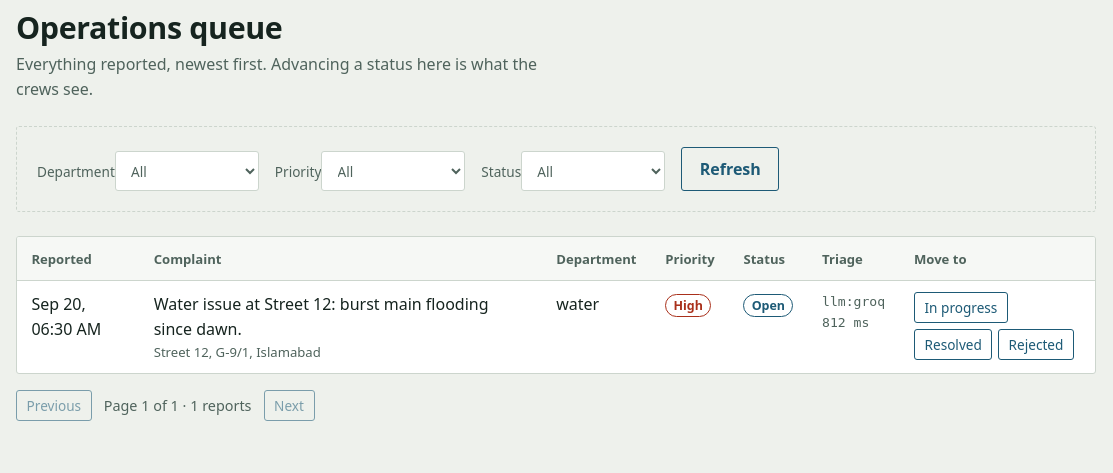
it: Operations queue › applies an accepted transition without a reload
Expected: the text "Water issue at Street 12: burst main flooding since dawn." is shown, left=154, top=292, right=528, bottom=342
Step 1. Click the button "In progress" → (961, 308), box left=914, top=292, right=1008, bottom=323
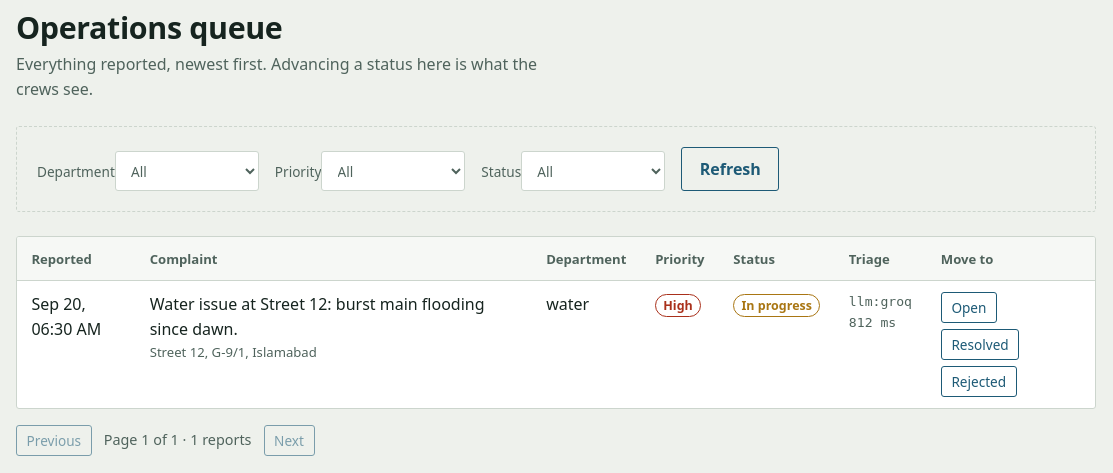
Expected: the cell "In progress" is shown, left=719, top=280, right=834, bottom=408
Expected: the button "Open" is shown, left=941, top=292, right=997, bottom=323
